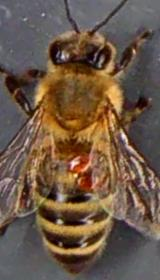varroa_mite: (66, 146, 96, 176), (74, 168, 106, 188)
